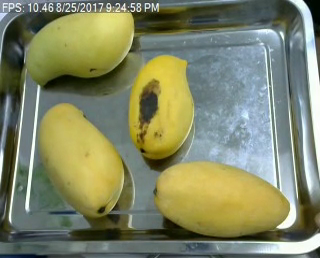Mango: (35, 100, 125, 220), (153, 162, 291, 239), (22, 3, 137, 86), (128, 54, 194, 158)
